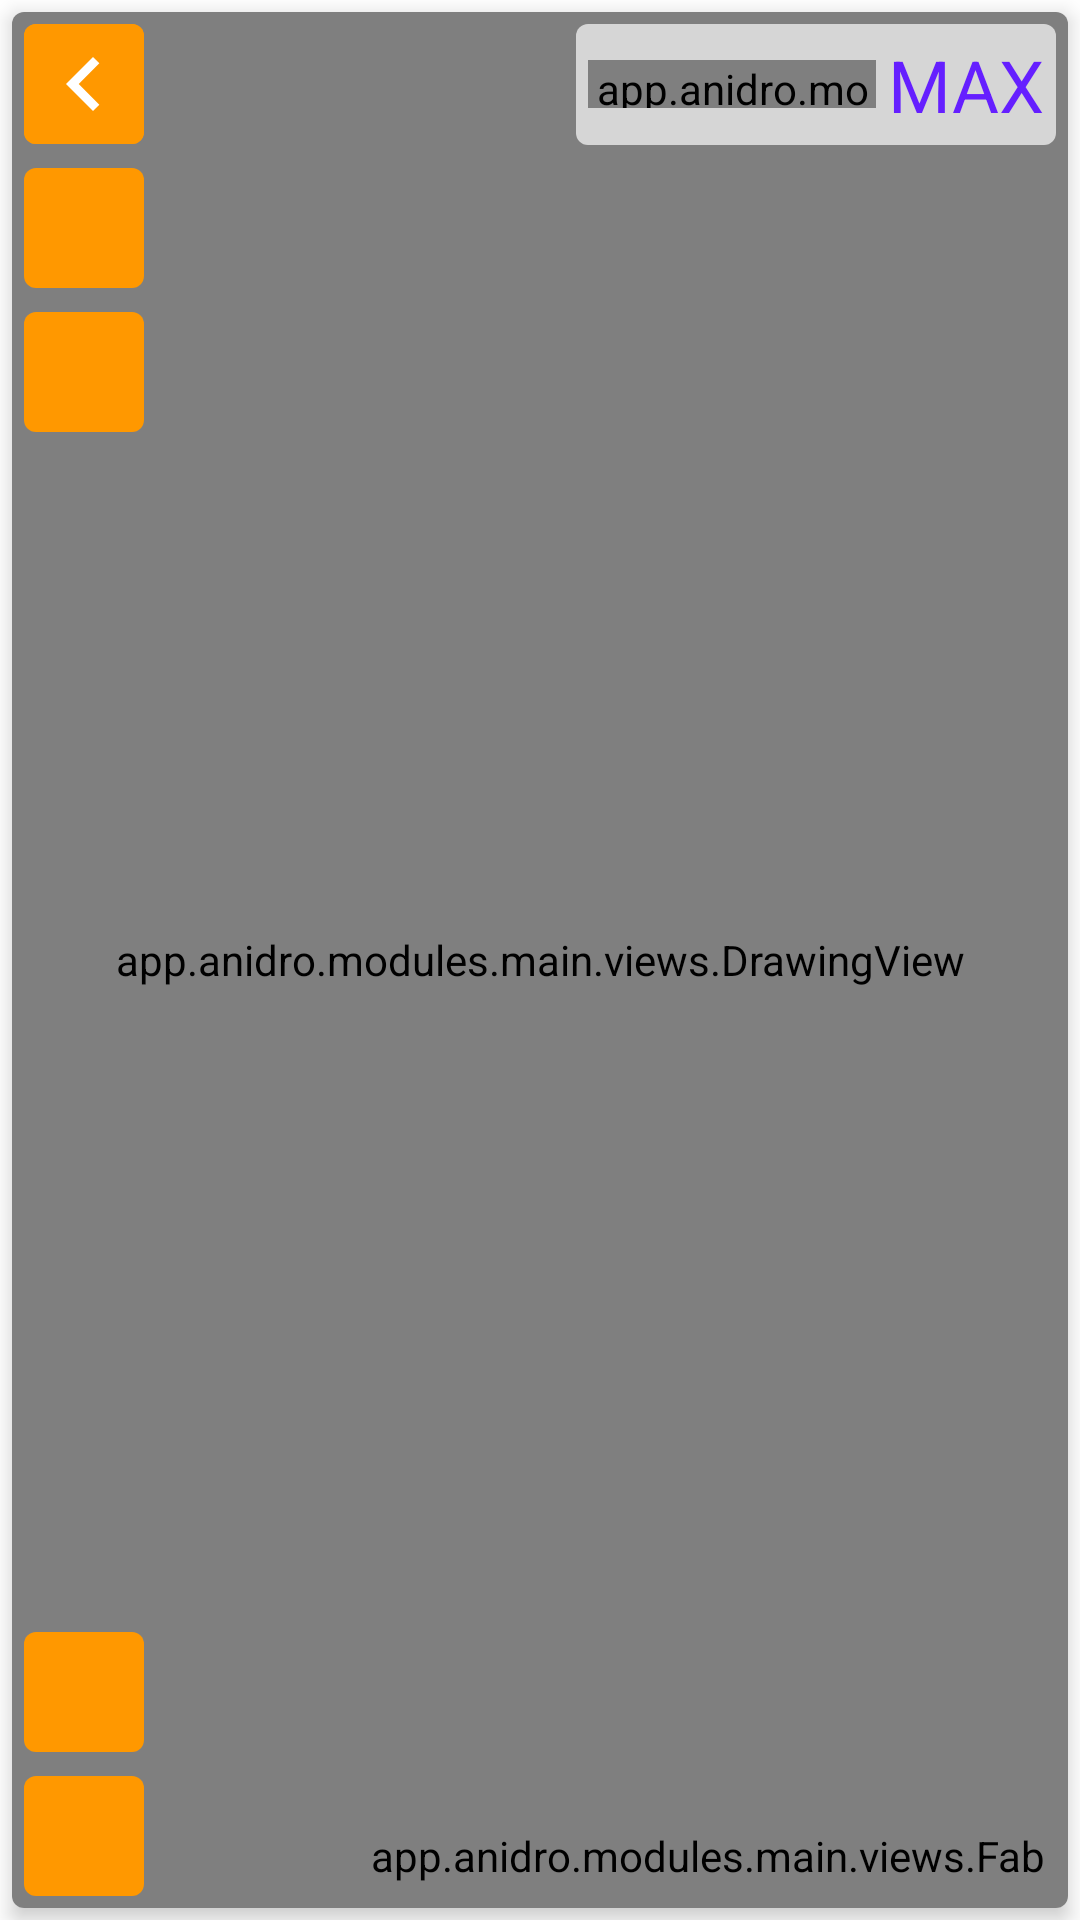

Icon click points for this 1080w x 1920h phone screenshot, format (x=x, y=y):
chevron left: (x=84, y=84)
